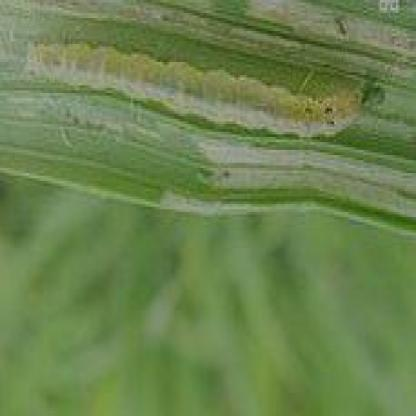leaf-folder: (24, 21, 387, 146)
